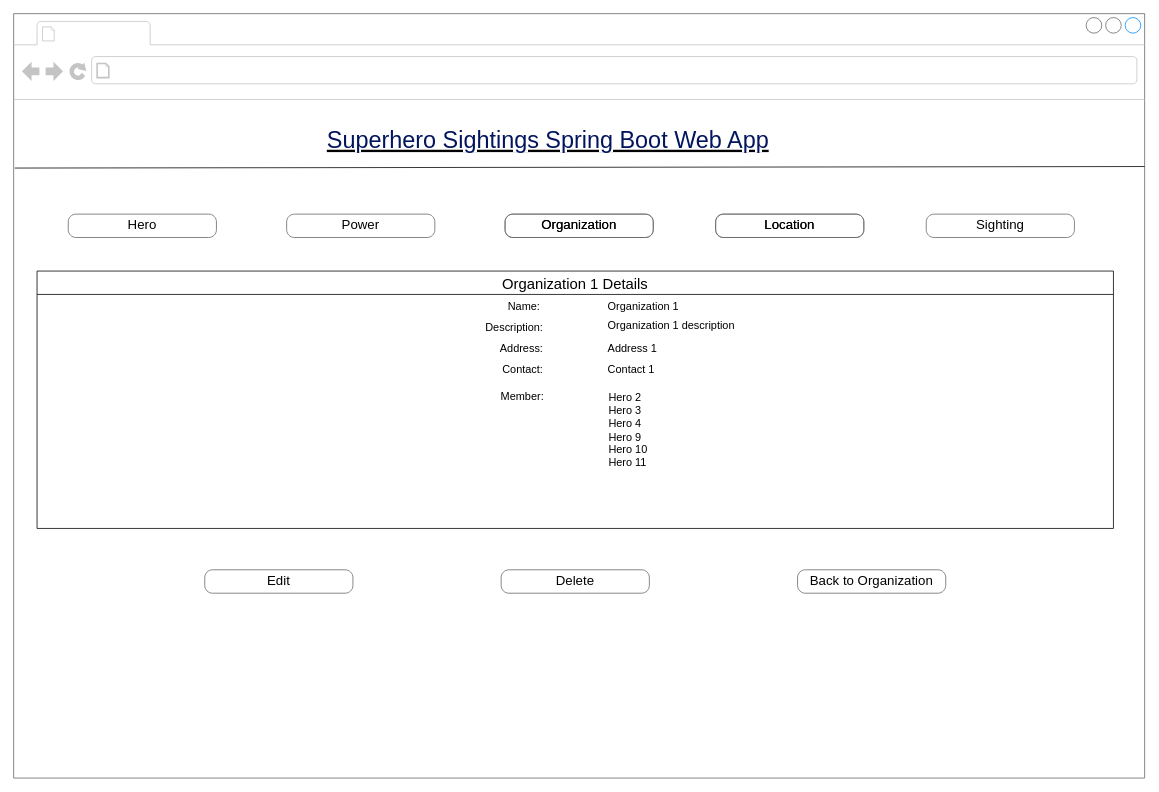
Image size: 1159x792. Some labels were removed from this diagram. The centre of each missing label's shape, as x and y in pixels:
https://www.default.com: point 212,70
Organization Details: point 118,32
